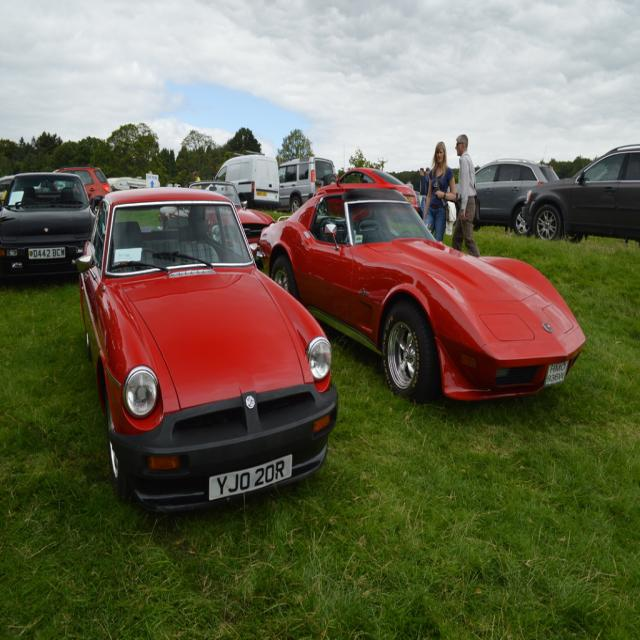car: (81, 187, 324, 526)
